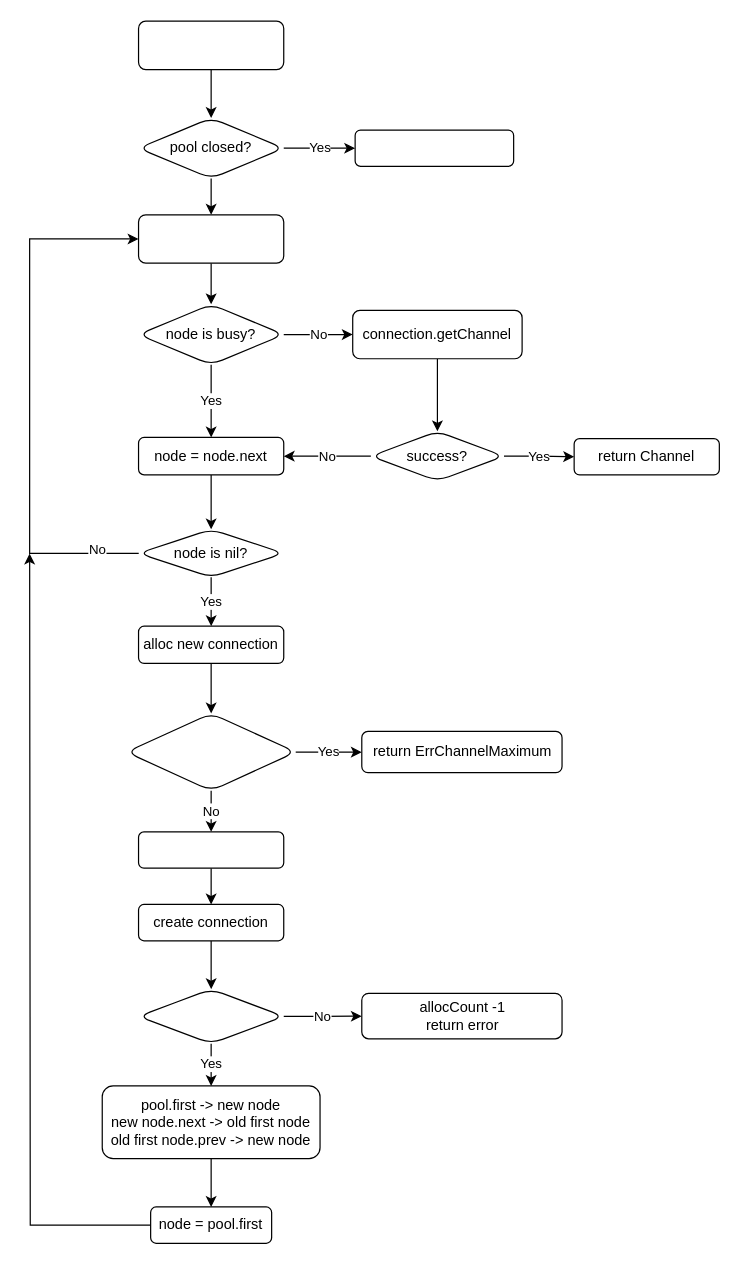
Some shapes in this 741 by 1264 pixel diagram are drawn without their labels. The centre of each missing label's shape, as x and y in pixels:
"allocCount +1" goes at point 210,849.
"connection up to maximum?" goes at point 210,751.
"create success?" goes at point 210,1016.
"GetChannel" goes at point 210,45.
"Loop in list" goes at point 210,238.
"return ErrPoolClosed" goes at point 434,147.
